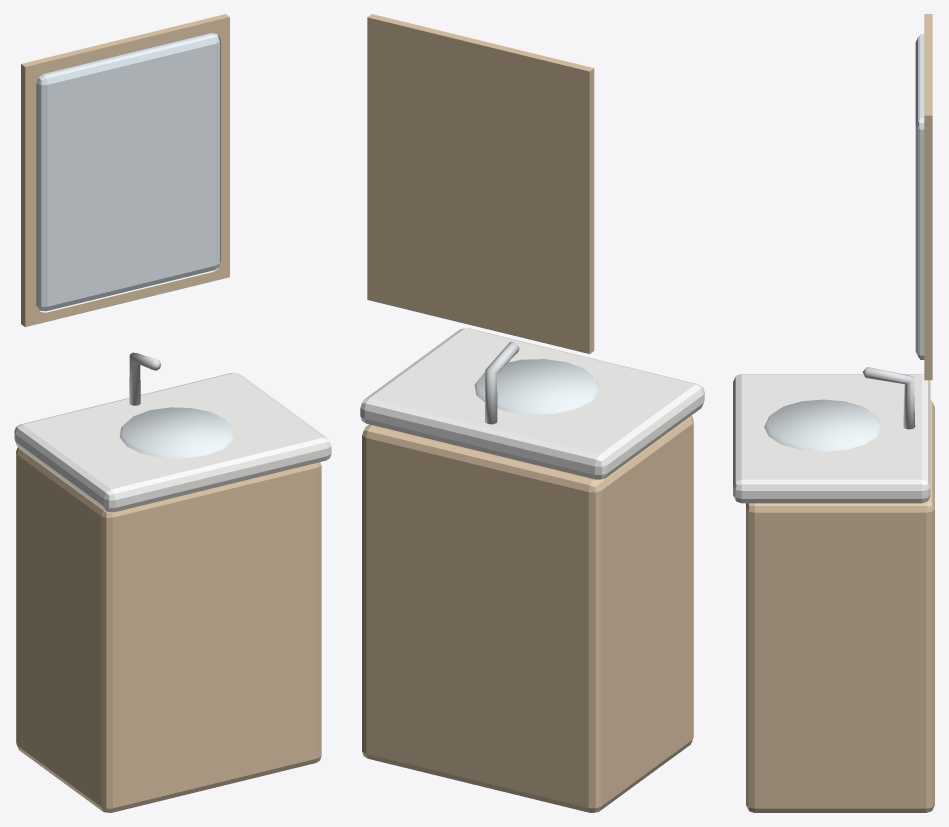
File: pia_banheiro.glb
3 views of the same model, side by side, from view 1: azimuth 30°, elevation 25°; view 2: azimuth 150°, elevation 25°; view 3: azimuth 270°, elevation 25° (orthographic). The views are drawn at different scales.
Parts seen in each view (by area): view 1: pia_banheiro; view 2: pia_banheiro; view 3: pia_banheiro.
Boxes of the visible parts, box(x1,y1,x2,y2) form: pia_banheiro: box(14, 14, 331, 812); pia_banheiro: box(360, 14, 704, 812); pia_banheiro: box(733, 14, 934, 812).
Bounding box in the file's own units: 0.62 × 1.79 × 0.47.
